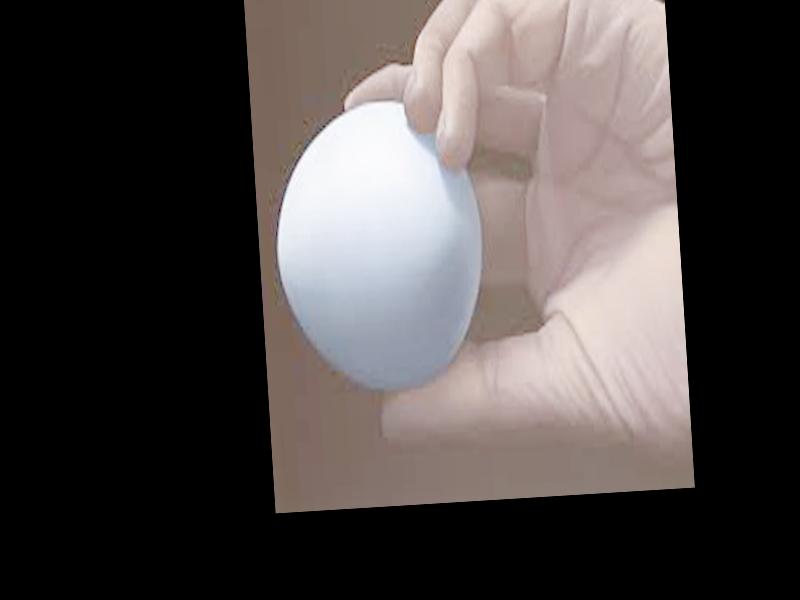Eggs: (267, 93, 487, 393)
